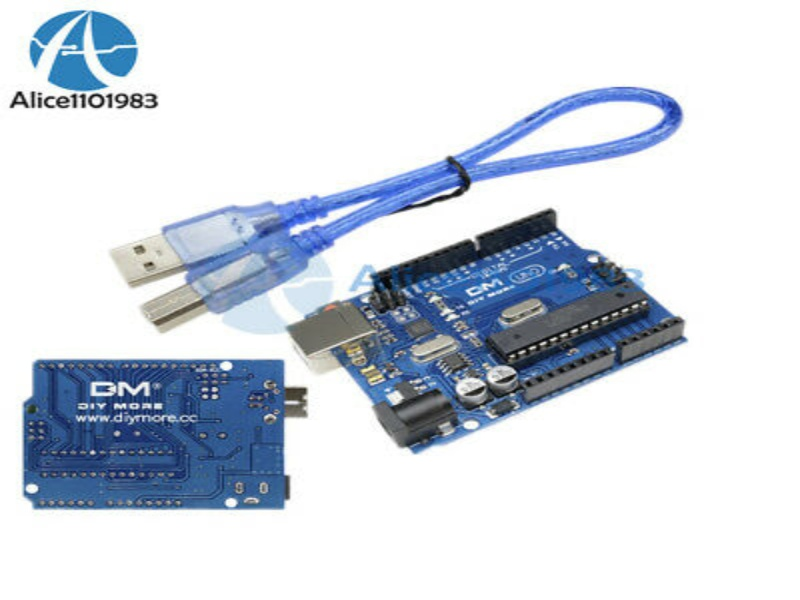uno: (301, 220, 725, 446)
